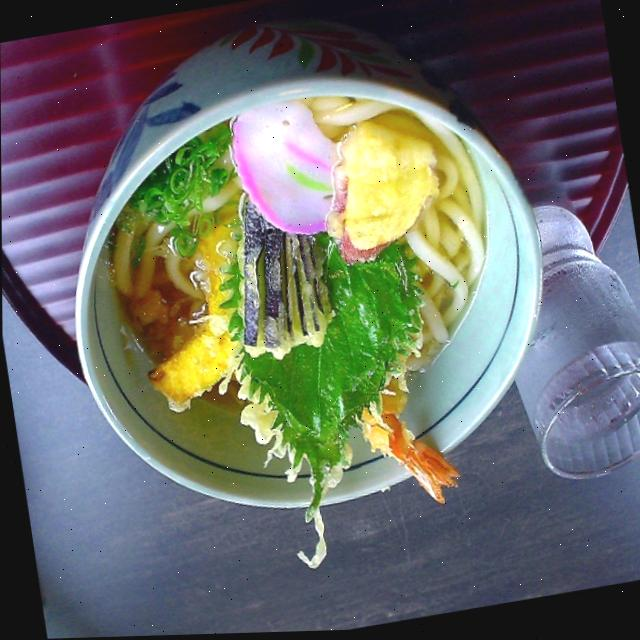面条主食: (80, 62, 526, 601)
